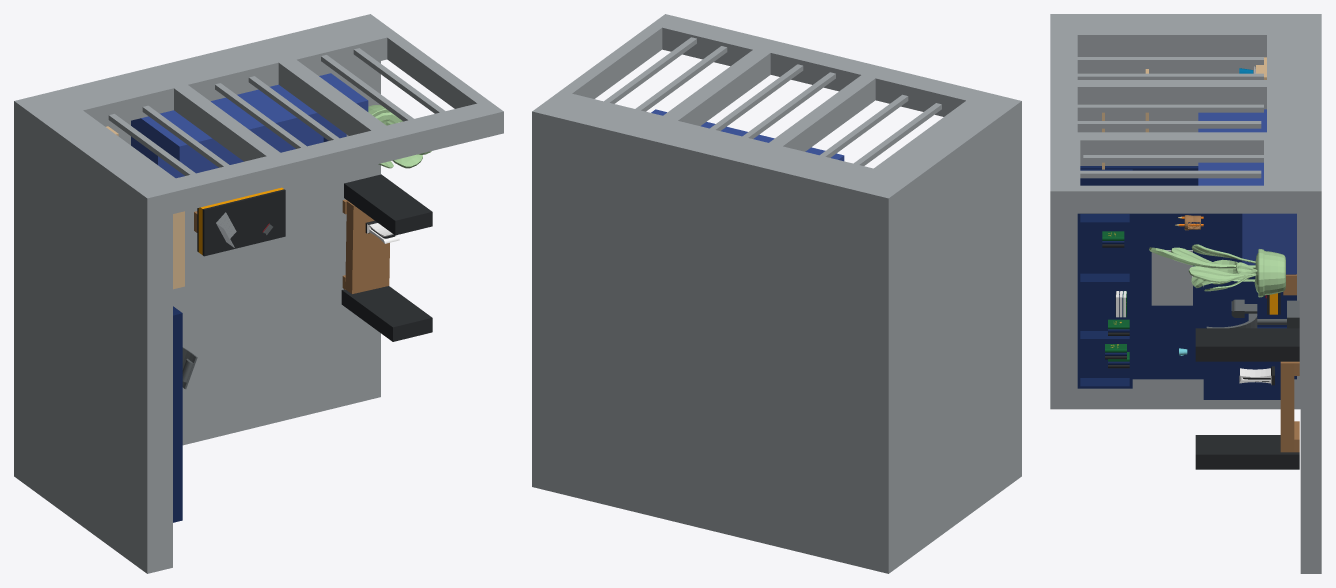
File: tinker.obj
3 renders of one model, left to right at view 1: azimuth 30°, elevation 25°; view 2: azimuth 150°, elevation 25°; view 3: azimuth 270°, elevation 25°, orthographic.
Visible parts, largest first — view 1: group_0_10988977, group_0_2829873, group_0_3888547, group_0_11107152, group_0_1650274, group_0_14860437, group_0_11195036; view 2: group_0_10988977; view 3: group_0_10988977, group_0_1650274, group_0_2829873, group_0_3888547, group_0_11195036, group_0_11107152, group_0_6383466, group_0_1206582, group_0_16448250.
Part boxes in pixels (bbox=[...]): group_0_10988977: bbox=[14, 14, 503, 573]; group_0_2829873: bbox=[197, 174, 432, 341]; group_0_3888547: bbox=[131, 73, 368, 178]; group_0_11107152: bbox=[194, 199, 389, 293]; group_0_1650274: bbox=[173, 306, 182, 522]; group_0_14860437: bbox=[106, 126, 184, 289]; group_0_11195036: bbox=[368, 105, 431, 168]; group_0_10988977: bbox=[532, 14, 1021, 573]; group_0_10988977: bbox=[1050, 14, 1321, 573]; group_0_1650274: bbox=[1077, 166, 1296, 399]; group_0_2829873: bbox=[1102, 217, 1299, 469]; group_0_3888547: bbox=[1198, 109, 1296, 274]; group_0_11195036: bbox=[1149, 244, 1285, 297]; group_0_11107152: bbox=[1184, 215, 1299, 452]; group_0_6383466: bbox=[1206, 299, 1299, 328]; group_0_1206582: bbox=[1102, 231, 1129, 361]; group_0_16448250: bbox=[1116, 66, 1271, 384].
Bounding box in the file's own units: 161 × 154 × 99.
